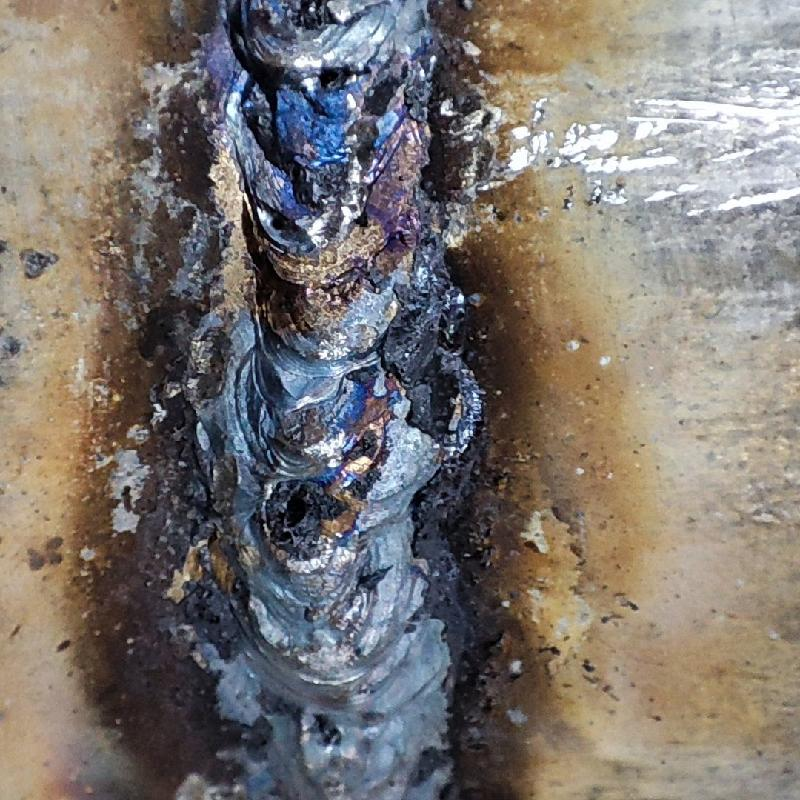Surface_pores: (256, 475, 316, 536), (258, 200, 308, 242), (307, 60, 348, 94), (342, 200, 373, 231)
